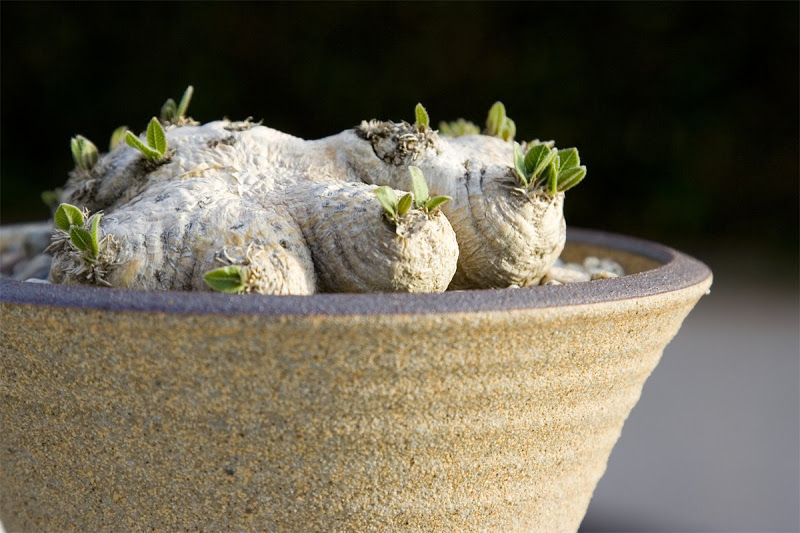Pachypodium brevicaule: (56, 82, 611, 309)
